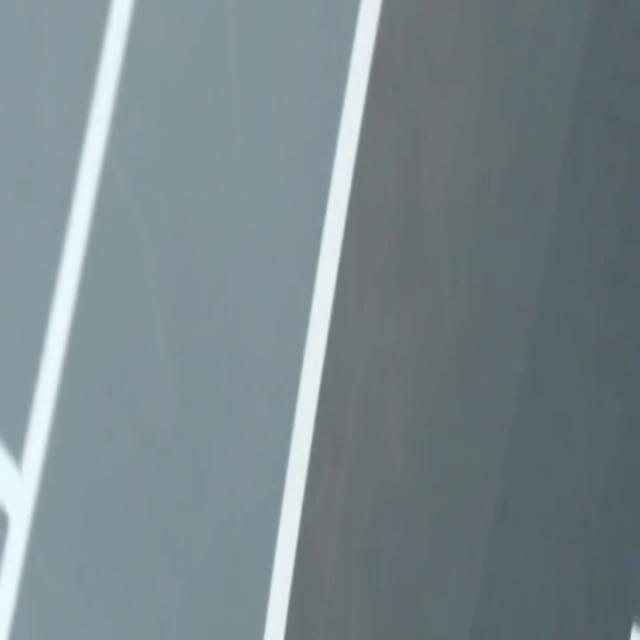center: (629, 622, 639, 639)
left: (263, 0, 381, 639)
